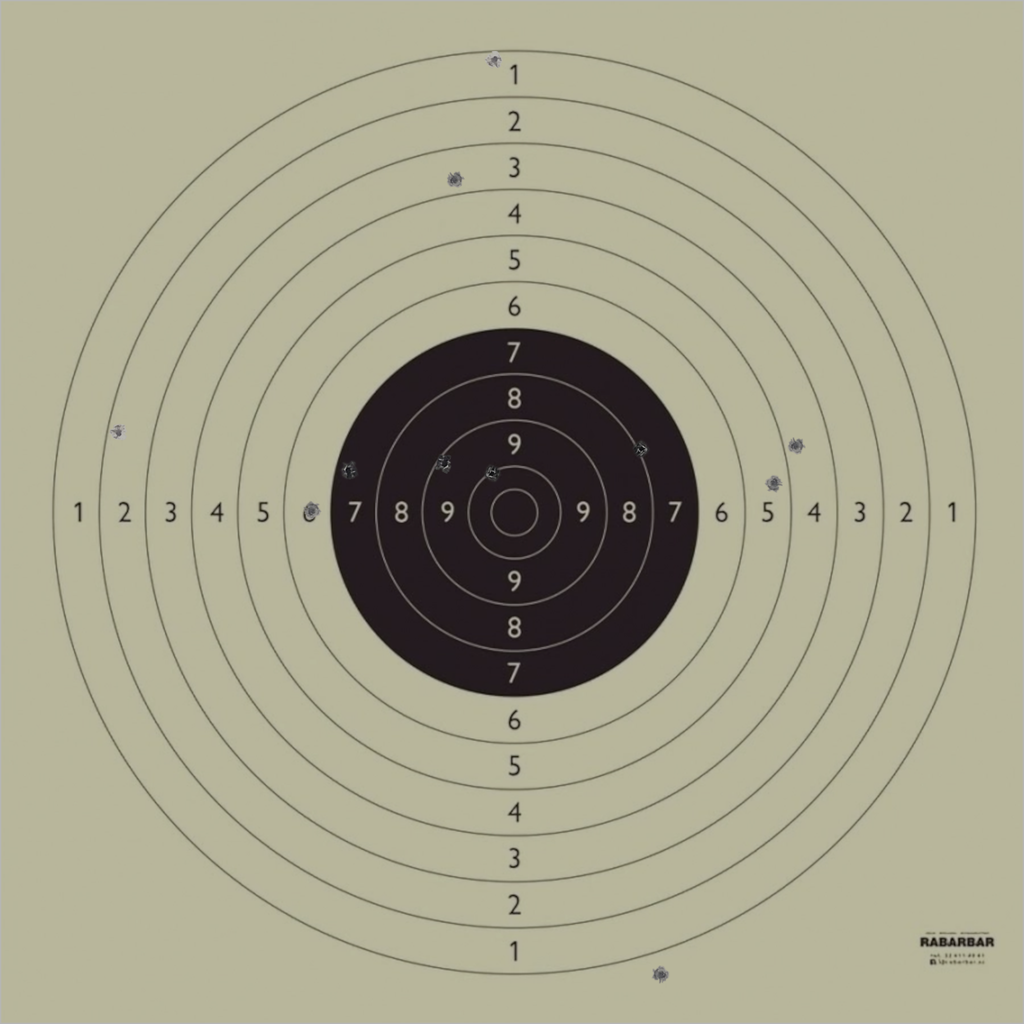0 punktow: (652, 966, 671, 984)
1 punkt: (485, 51, 504, 69)
10 punktow: (482, 465, 501, 483)
2 punkty: (109, 423, 128, 442)
3 punkty: (445, 171, 464, 189)
4 punkty: (786, 437, 805, 455)
5 punktow: (765, 474, 783, 492)
6 punktow: (303, 502, 321, 520)
7 punktow: (339, 461, 358, 479)
8 punktow: (633, 440, 651, 458)
9 punktow: (435, 454, 454, 472)
